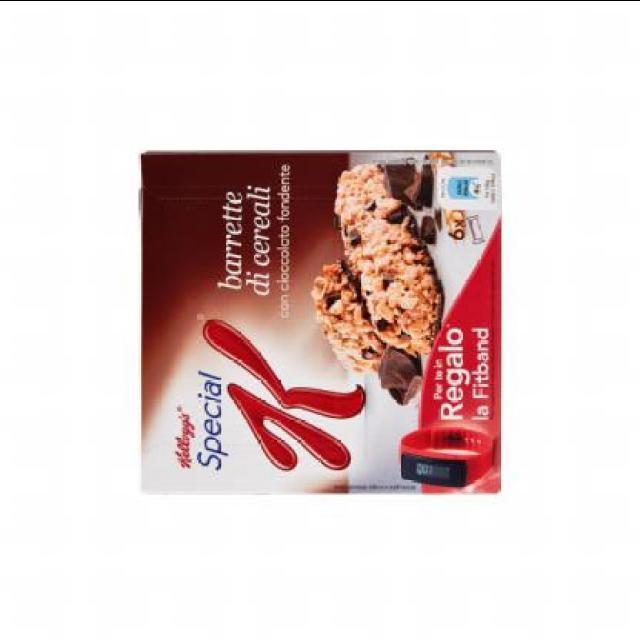Cereal bar: (130, 145, 507, 497)
